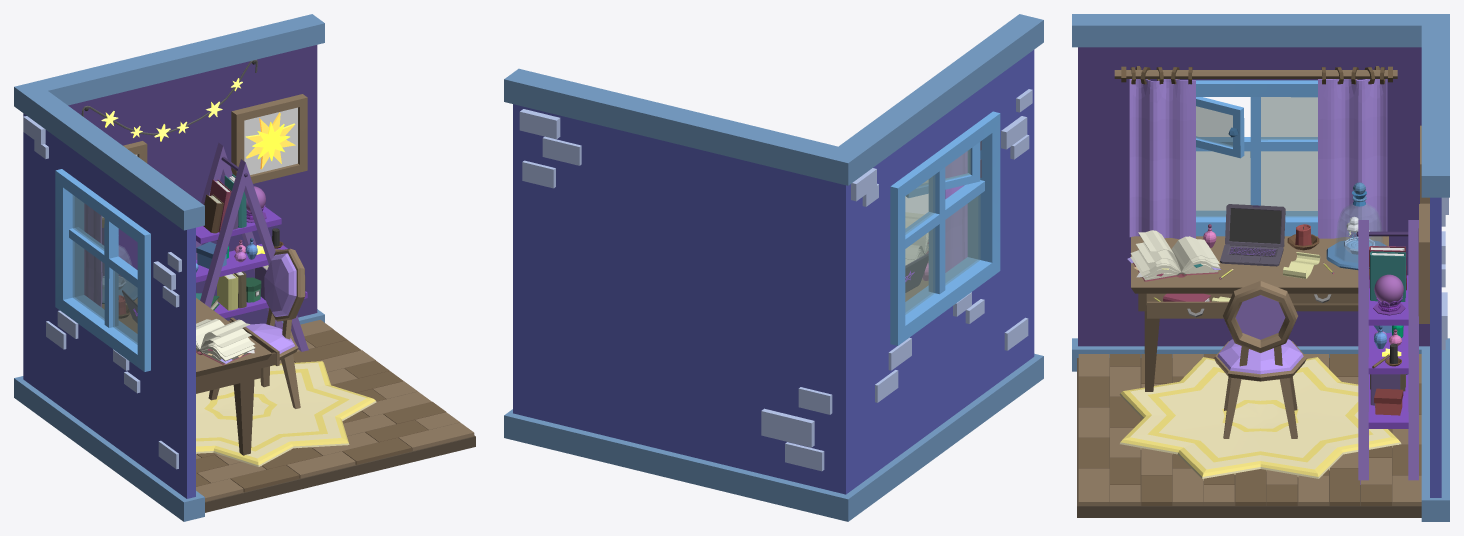
Rendered from witch_study.glb.
The picture shows the model from 3 angles, left to right: view 1: azimuth 30°, elevation 25°; view 2: azimuth 150°, elevation 25°; view 3: azimuth 270°, elevation 25°; orthographic projection. The views are drawn at different scales.
Visible parts, largest first — view 1: pCube69, pCube79, rug, pCube70, pCube4, pCube77, pCube1, pCube82, pCube90, pCube73, pCube91, pCylinder92 (+30 smaller); view 2: pCube69, pCube79, pCube4, pCube70, pCube77, pCube73, pPlane1, pCube97, pCube94, pCube76, pCube95, pCube96 (+2 smaller); view 3: pCube69, pPlane1 (×2), rug, pCube79, pCube77, pCube93, pCube4, pCube1, pCube70, pCube82, pCube83, pCube125 (+55 smaller).
Boxes of the visible parts, x1,y1,x2,y2 form: pCube69: (23,45,317,498); pCube79: (14,14,324,230); rug: (196,361,376,466); pCube70: (55,169,150,371); pCube4: (14,309,324,521); pCube77: (73,195,137,344); pCube1: (205,435,475,512); pCube82: (200,159,308,351); pCube90: (231,94,307,183); pCube73: (69,218,137,327); pCube91: (244,107,297,174); pCylinder92: (264,253,296,316); pCube69: (513,50,1034,494); pCube79: (504,14,1043,185); pCube4: (504,353,1043,521); pCube70: (890,111,1000,345); pCube77: (905,175,980,314); pCube73: (905,167,984,294); pPlane1: (945,151,967,272); pCube97: (761,408,814,447); pCube94: (519,109,560,139); pCube76: (906,142,980,197); pCube95: (542,136,581,165); pCube96: (785,442,824,471); pCube69: (1078,47,1441,497); pPlane1 (×2): (1129,79,1387,239); rug: (1119,357,1401,480); pCube79: (1072,14,1449,197); pCube77: (1196,97,1317,216); pCube93: (1131,236,1388,293); pCube4: (1072,338,1449,521); pCube1: (1077,358,1421,517); pCube70: (1190,80,1317,236); pCube82: (1358,220,1368,484); pCube83: (1408,220,1418,480); pCube125: (1225,204,1285,247).
Size of the model in its own units: 12.12 by 12.04 by 11.91.
